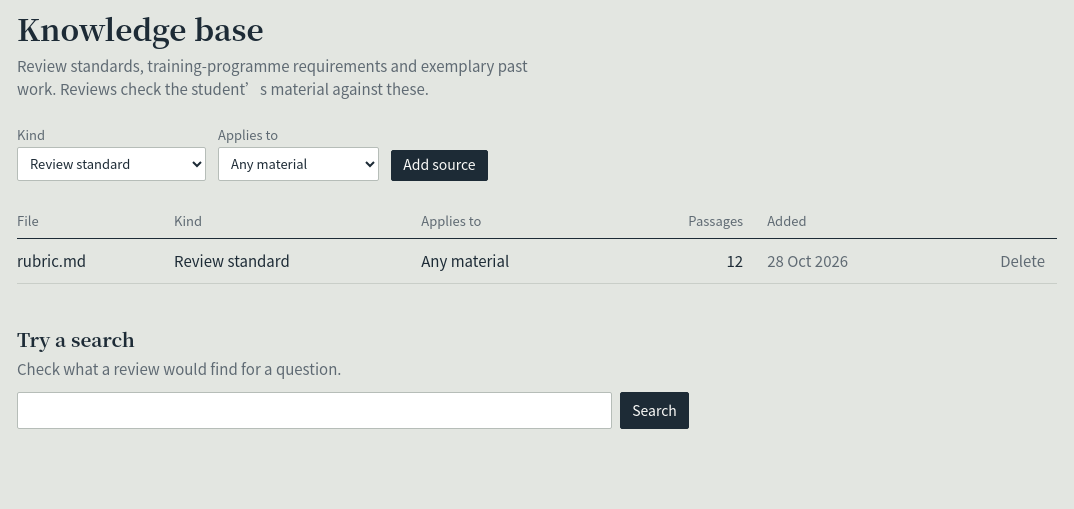
Test: test search shows hits with their distance
expect the text "rubric.md" is shown: met, box [17,238,174,283]
In the field named "Try a search": (314, 411) [17,392,612,429], type "claims without data"
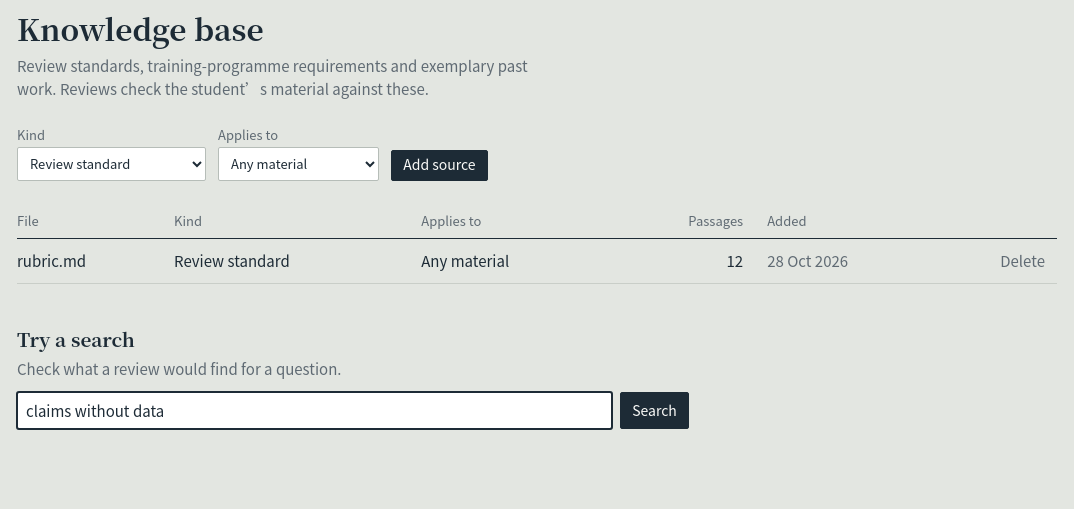
Click the button "Search": (654, 411) [620,392,689,429]
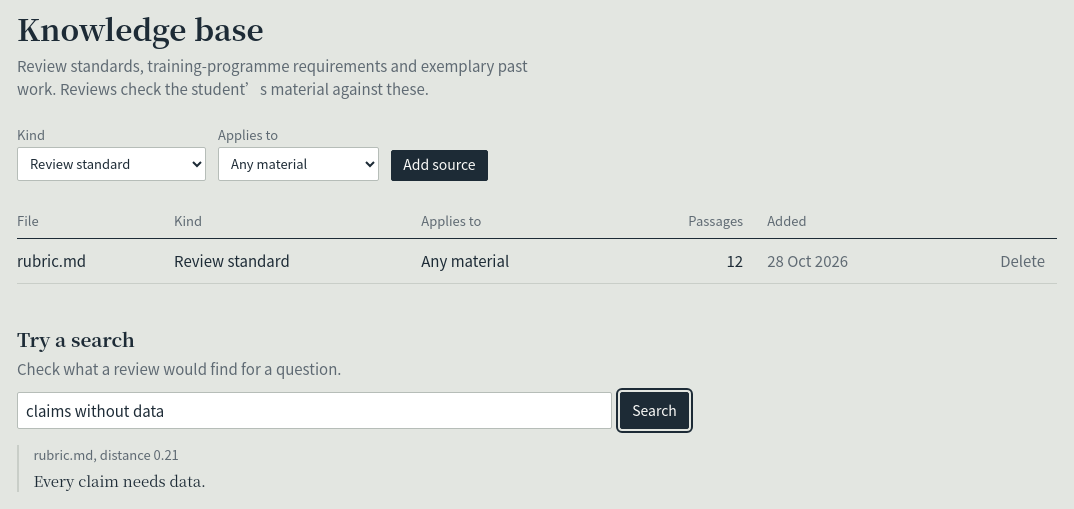
expect the text "Every claim needs data." is shown: met, box [33,470,206,491]
expect the text "rubric.md, distance 0.21" is shown: met, box [33,445,179,464]
